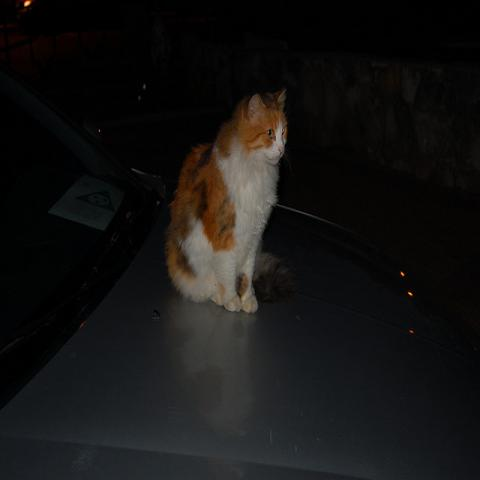car: (1, 54, 479, 473)
